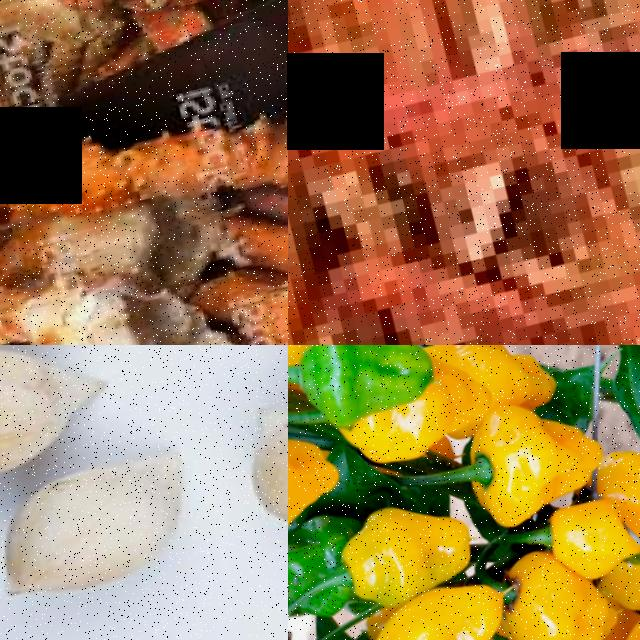coconut: (0, 427, 224, 617), (0, 345, 133, 510), (236, 360, 288, 545)
crab: (0, 23, 288, 281), (0, 166, 248, 345)
